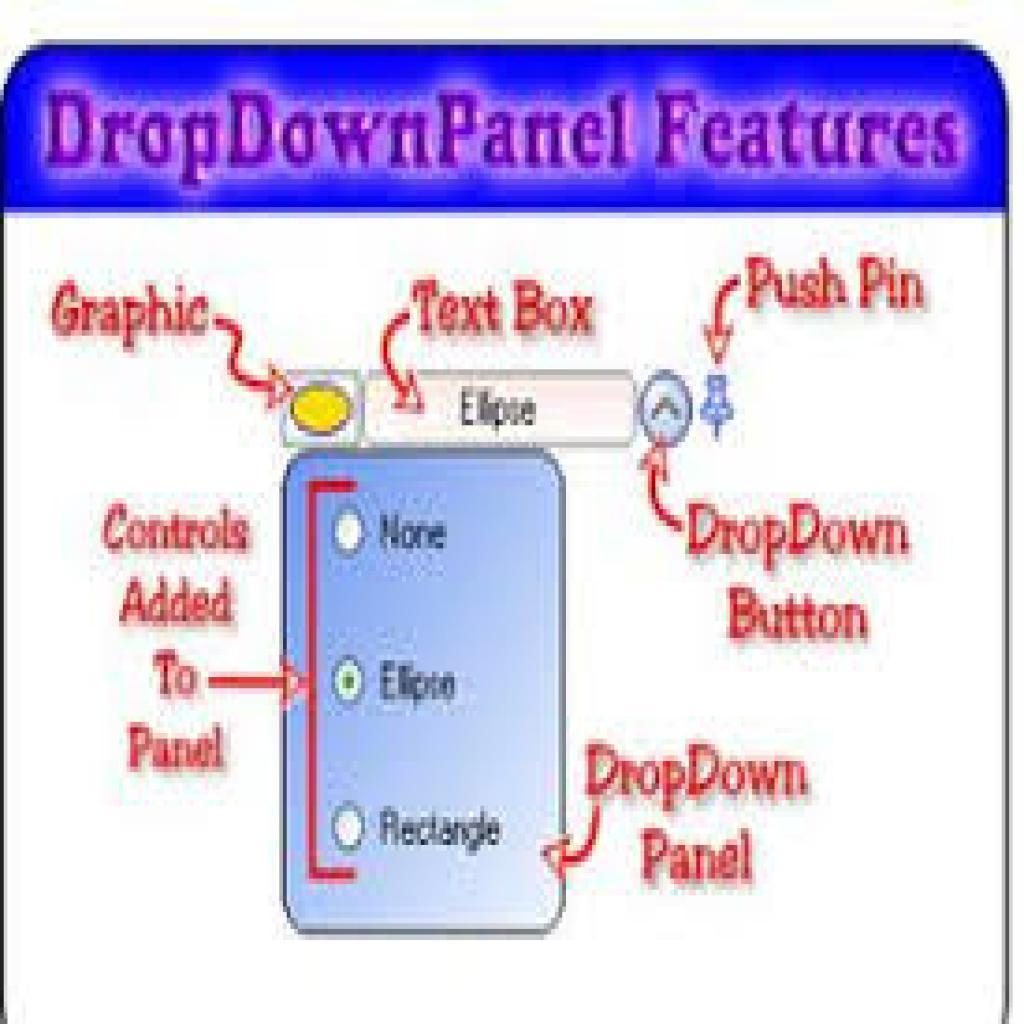radio: (328, 502, 371, 563), (332, 655, 369, 711), (330, 801, 369, 854)
